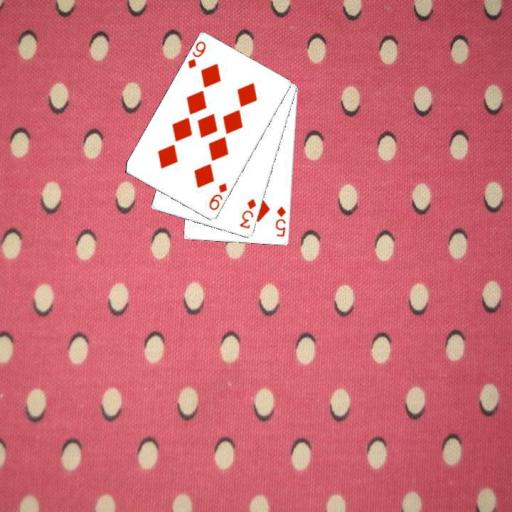3D: (236, 196, 258, 231)
5D: (273, 204, 288, 239)
9D: (205, 180, 229, 212), (184, 38, 208, 70)
